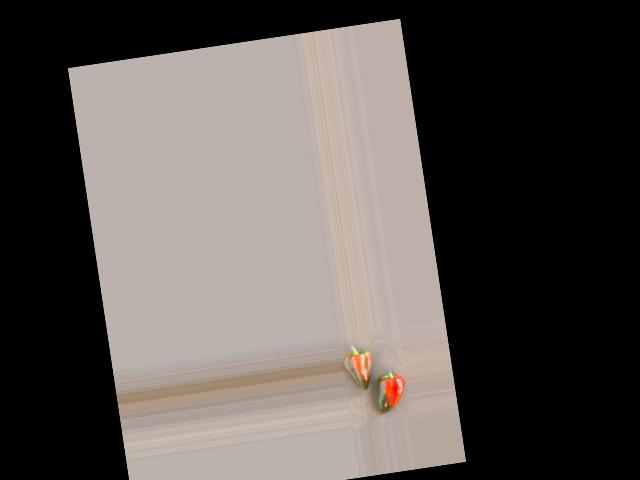bell_pepper: (369, 355, 411, 417)
